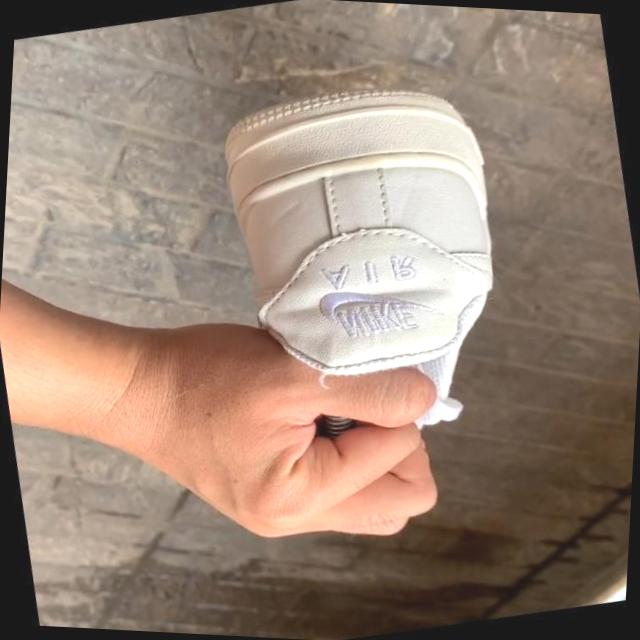nike_fake_airforce: (198, 49, 545, 456)
